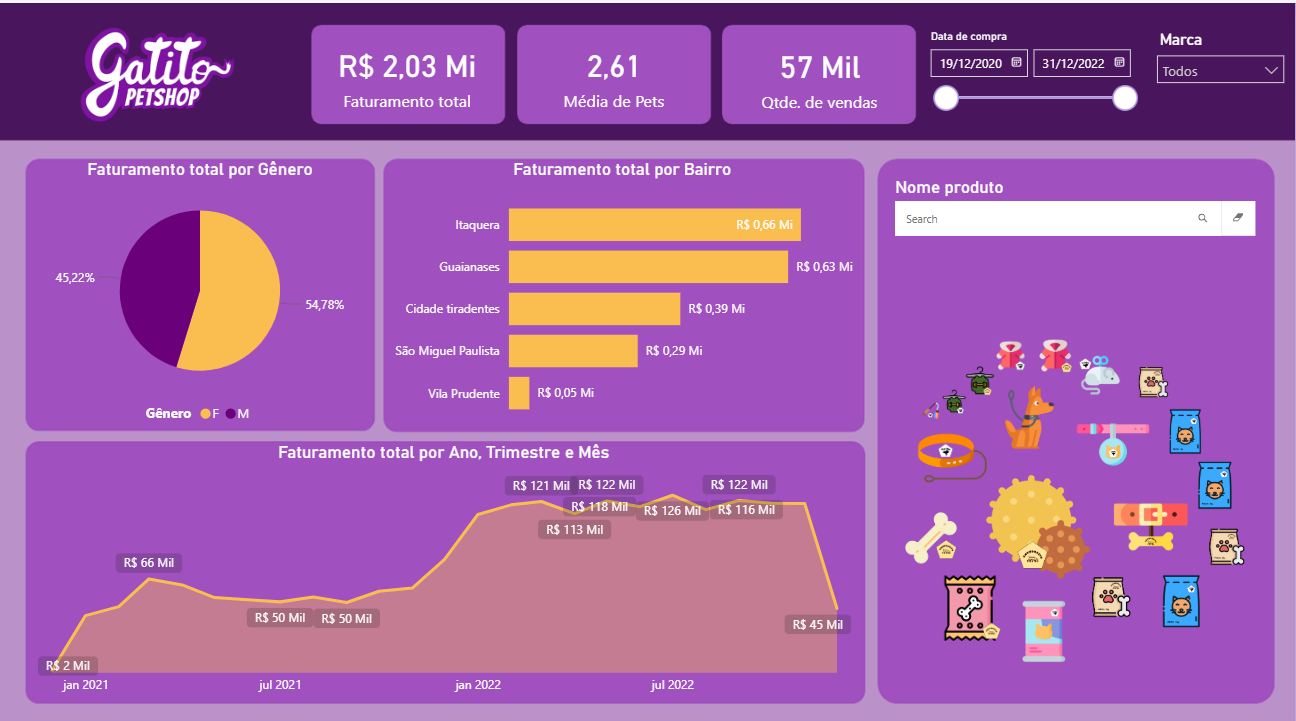

This screenshot's page, from the dashboard's own definition file:
{"tool":"powerbi","page":{"name":"Página 1","canvas":[1280,720],"ordinal":0},"visuals":[{"type":"card","fields":{"Values":["Avg(Clientes.Pets)"]},"box":[0,0,251.4,174.6],"z":0},{"type":"card","fields":{"Values":["Sum(Vendas.Quantidade)"]},"box":[243.4,10,251.4,174.6],"z":1000},{"type":"card","fields":{"Values":["Vendas.Faturamento total"]},"box":[571.7,10,306.3,164.6],"z":2000},{"type":"pieChart","fields":{"Category":["Clientes.Gênero"],"Y":["Vendas.Faturamento total"]},"box":[41.9,161.6,452.9,244.4],"z":3000},{"type":"clusteredBarChart","fields":{"Category":["Clientes.Bairro"],"Y":["Vendas.Faturamento total"]},"box":[519.8,161.6,404.1,244.4],"z":4000},{"type":"lineChart","fields":{"Category":["Vendas.Data de compra.Variation.Hierarquia de datas.Ano","Vendas.Data de compra.Variation.Hierarquia de datas.Trimestre","Vendas.Data de compra.Variation.Hierarquia de datas.Mês","Vendas.Data de compra.Variation.Hierarquia de datas.Dia"],"Y":["Vendas.Faturamento total"]},"box":[41.9,424,754.2,244.4],"z":5000},{"type":"ImageGrid_FC5183B9_926C_45E0_B5F7_0CE9EAF1DA9B","fields":{"ImageURL":["Produtos.Url img"]},"box":[951.8,174.6,306.3,532.8],"z":5001},{"type":"textFilter25A4896A83E0487089E2B90C9AE57C8A","fields":{"field":["Produtos.Nome produto"]},"box":[930.8,109.7,327.2,64.8],"z":5002},{"type":"slicer","fields":{"Values":["Produtos.Marca"]},"box":[821.1,10,149.6,88.8],"z":5003},{"type":"slicer","fields":{"Values":["Vendas.Data de compra"]},"box":[970.7,10,309.3,104.8],"z":5004}]}

Visuals, with their boxes in screenshot pixels (x1, y1, x2, y2), scaled from the page's 1280x720 canvas onto the 1296x721 screenshot:
card - Avg(Clientes.Pets): locate(0, 0, 255, 175)
card - Sum(Vendas.Quantidade): locate(246, 10, 501, 185)
card - Vendas.Faturamento total: locate(579, 10, 889, 175)
pieChart - Clientes.Gênero x Vendas.Faturamento total: locate(42, 162, 501, 407)
clusteredBarChart - Clientes.Bairro x Vendas.Faturamento total: locate(526, 162, 935, 407)
lineChart - Vendas.Data de compra.Variation.Hierarquia de datas.Ano x Vendas.Data de compra.Variation.Hierarquia de datas.Trimestre: locate(42, 425, 806, 669)
ImageGrid_FC5183B9_926C_45E0_B5F7_0CE9EAF1DA9B - Produtos.Url img: locate(964, 175, 1274, 708)
textFilter25A4896A83E0487089E2B90C9AE57C8A - Produtos.Nome produto: locate(942, 110, 1274, 175)
slicer - Produtos.Marca: locate(831, 10, 983, 99)
slicer - Vendas.Data de compra: locate(983, 10, 1295, 115)
